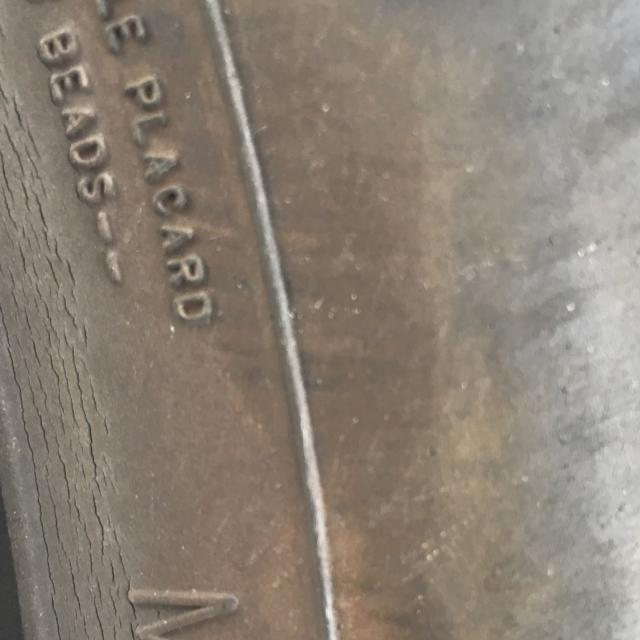Cracks: (1, 0, 154, 640)
Non-defective: (170, 0, 640, 640)
